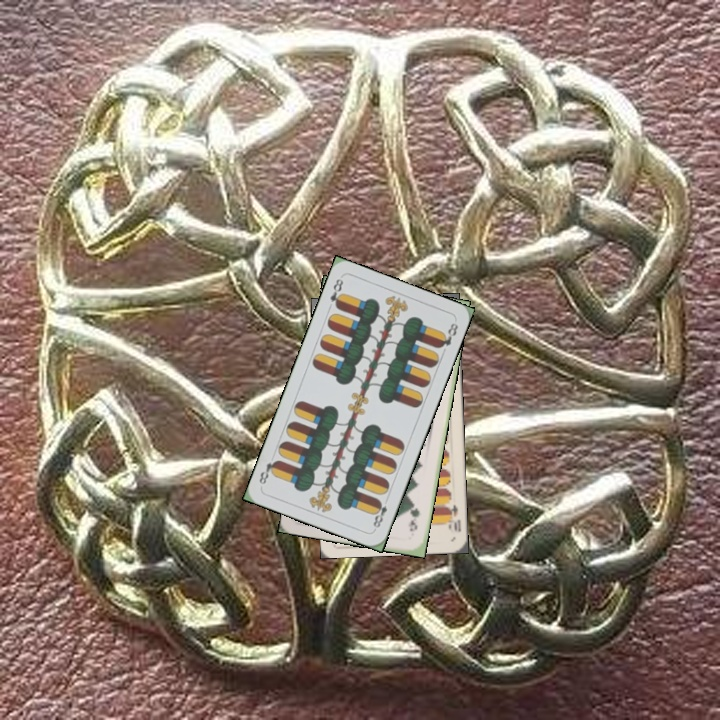E10: (443, 501, 463, 534)
E8: (369, 496, 390, 532), (326, 274, 346, 311)
G9: (406, 499, 422, 534)
